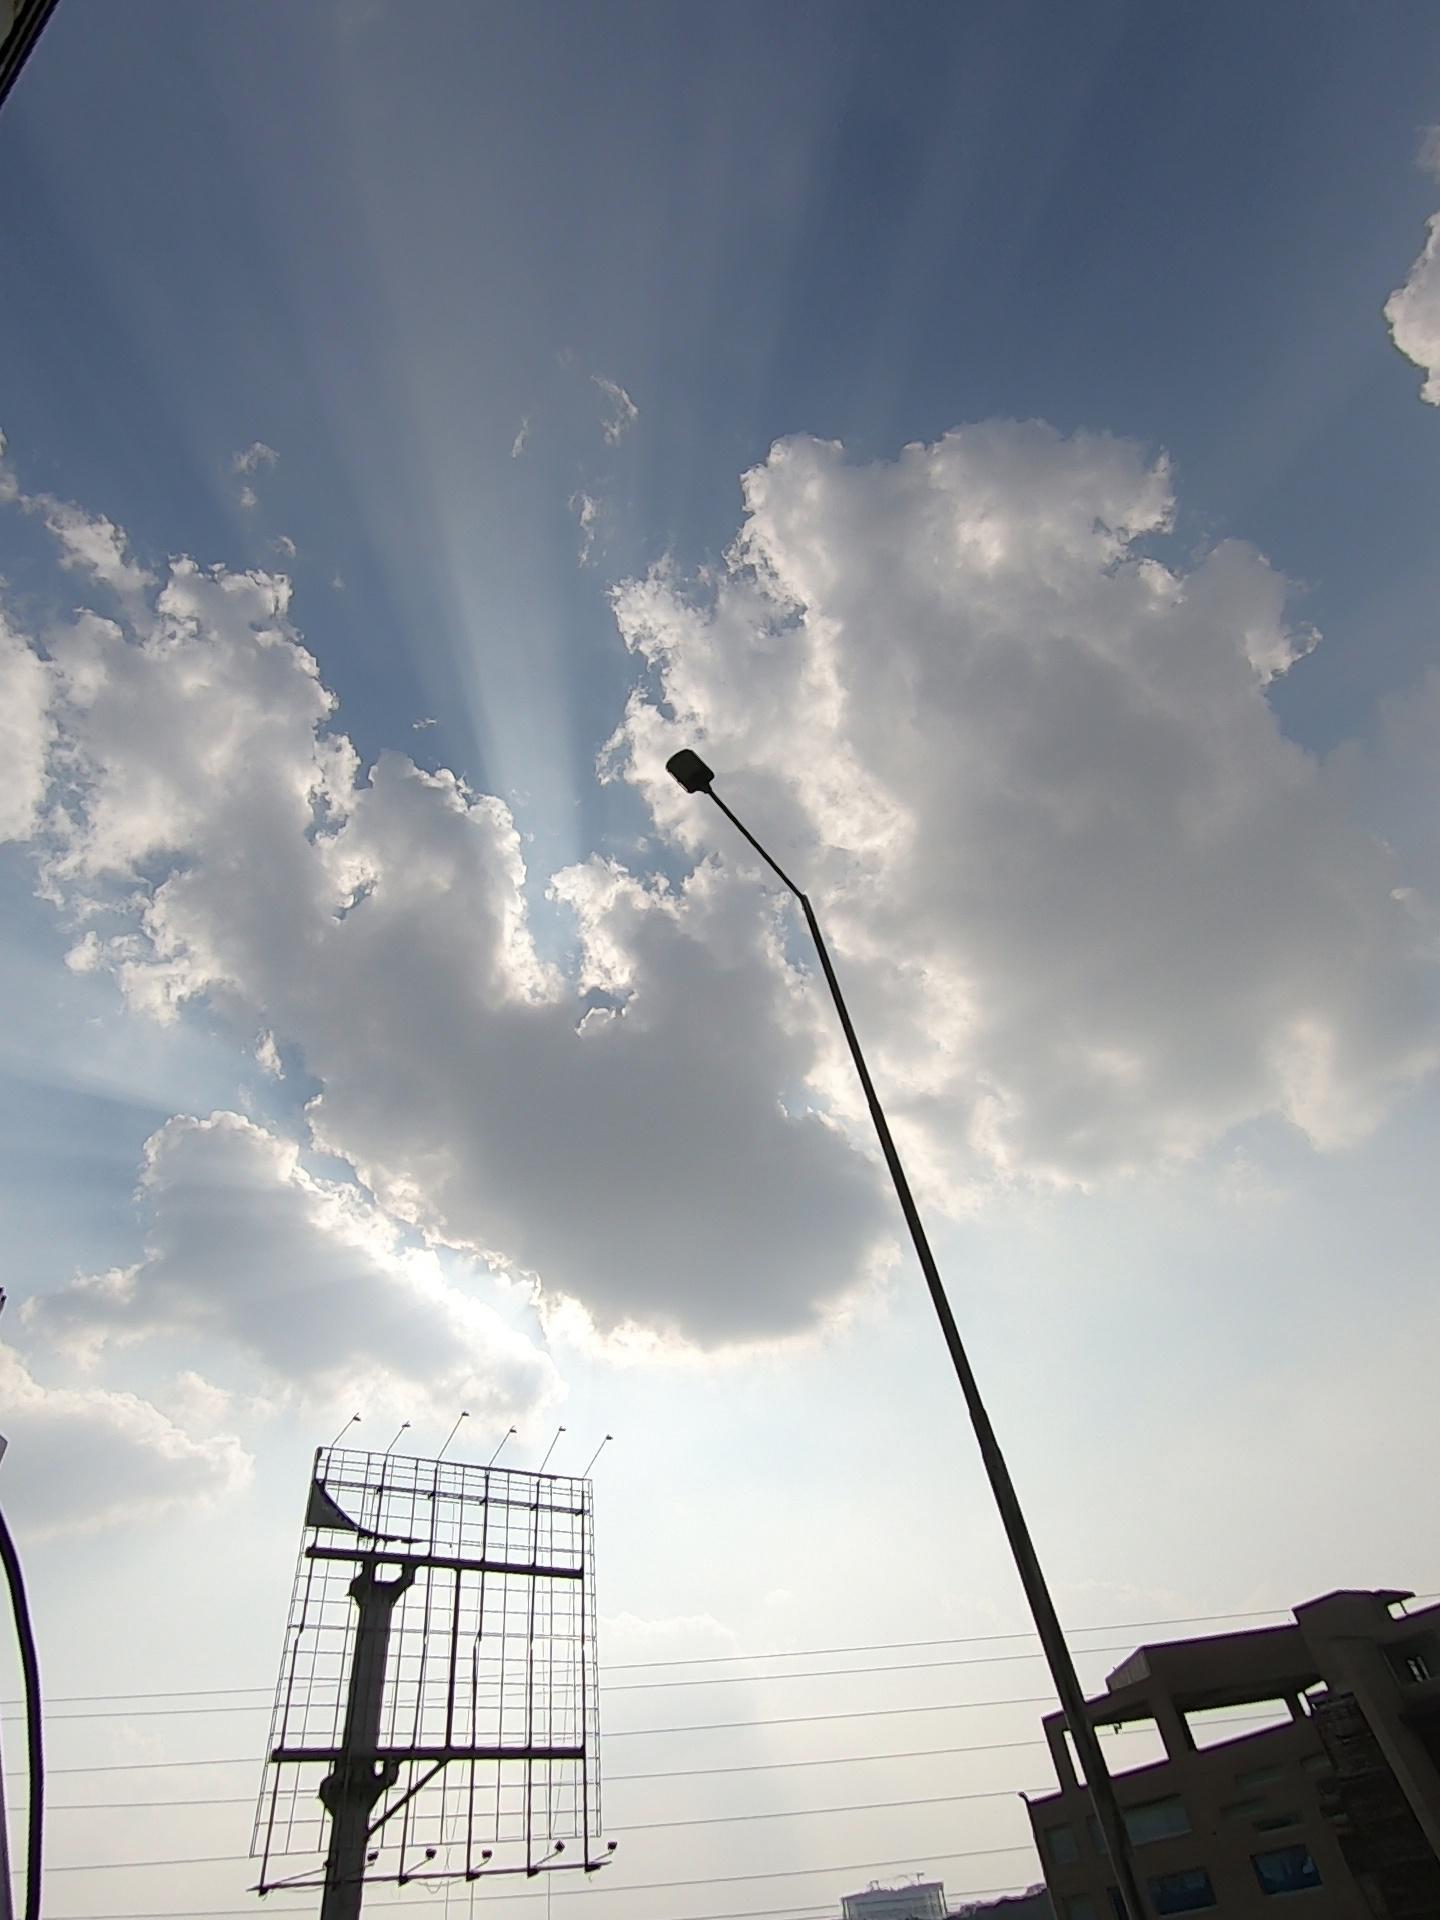off: (631, 691, 923, 1023)
